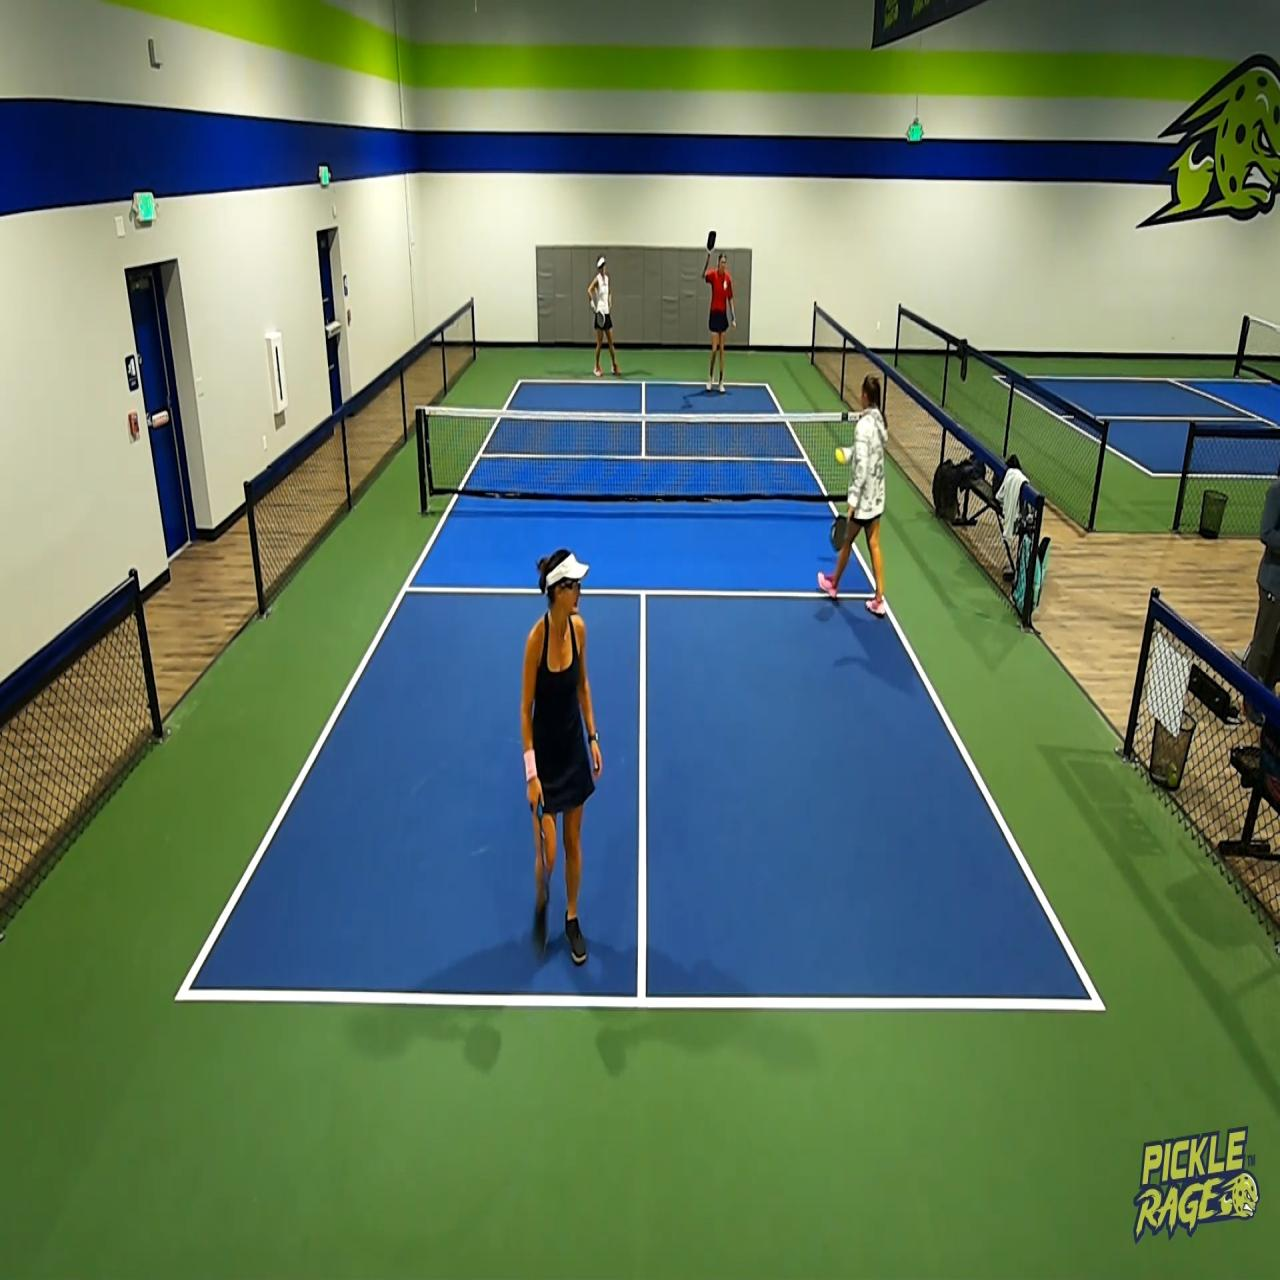Pickleball: (833, 444, 845, 465)
